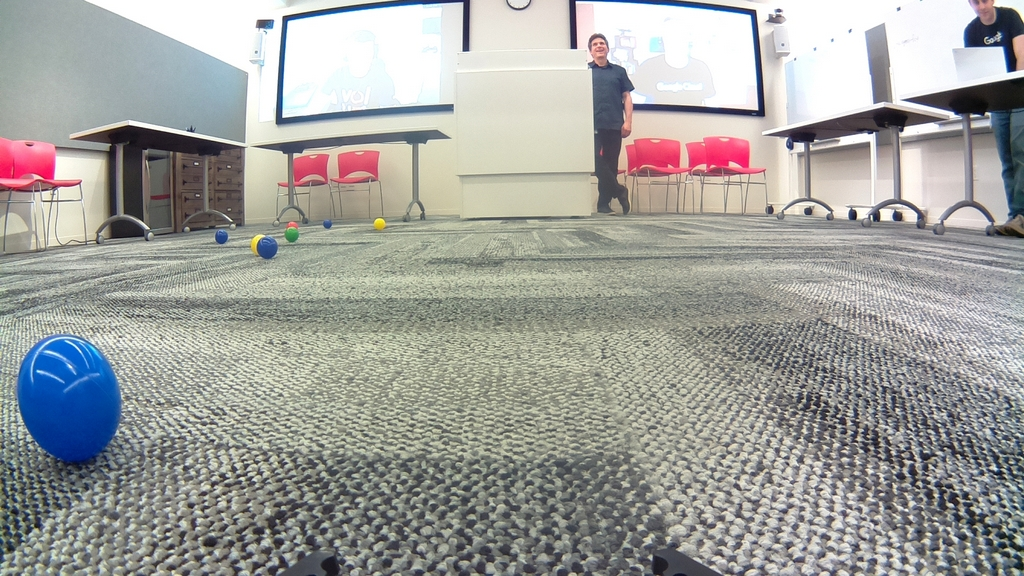ball: (287, 220, 296, 230)
